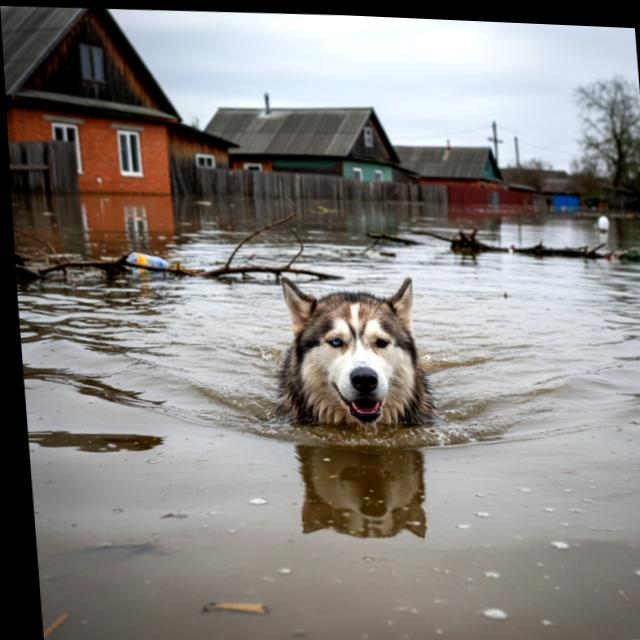dog: (260, 252, 451, 454)
